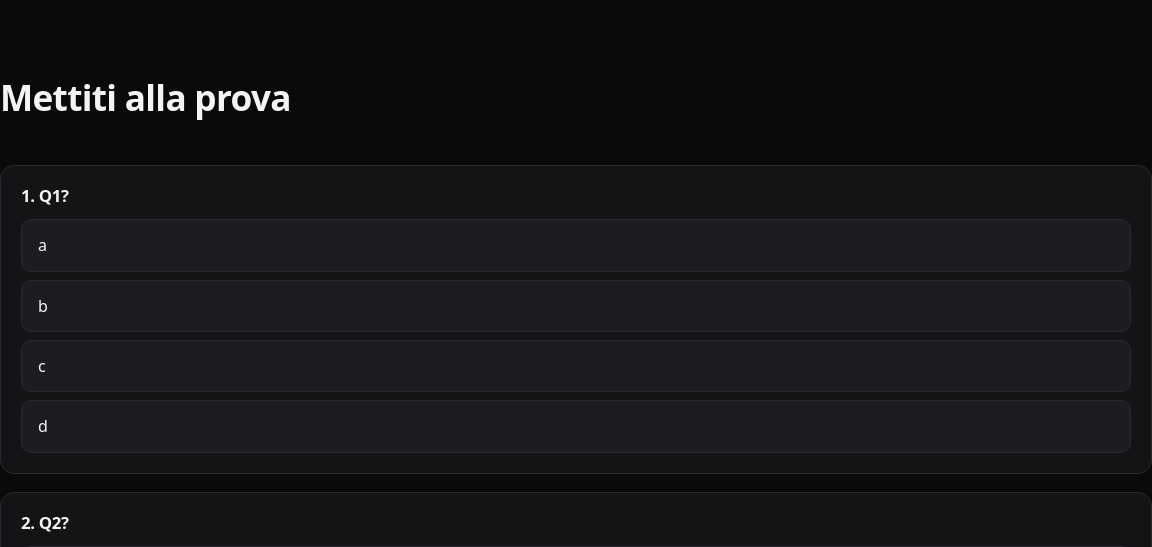
Test: QuizSection › wrong answer shows retry feedback and does not pass the quiz
The width and height of the screenshot is (1152, 547).
What coordinates should you click on to do the following:
click the button "a" below "1. Q1?"
I would click on:
 (42, 245)
Its box is [21, 219, 1131, 272].
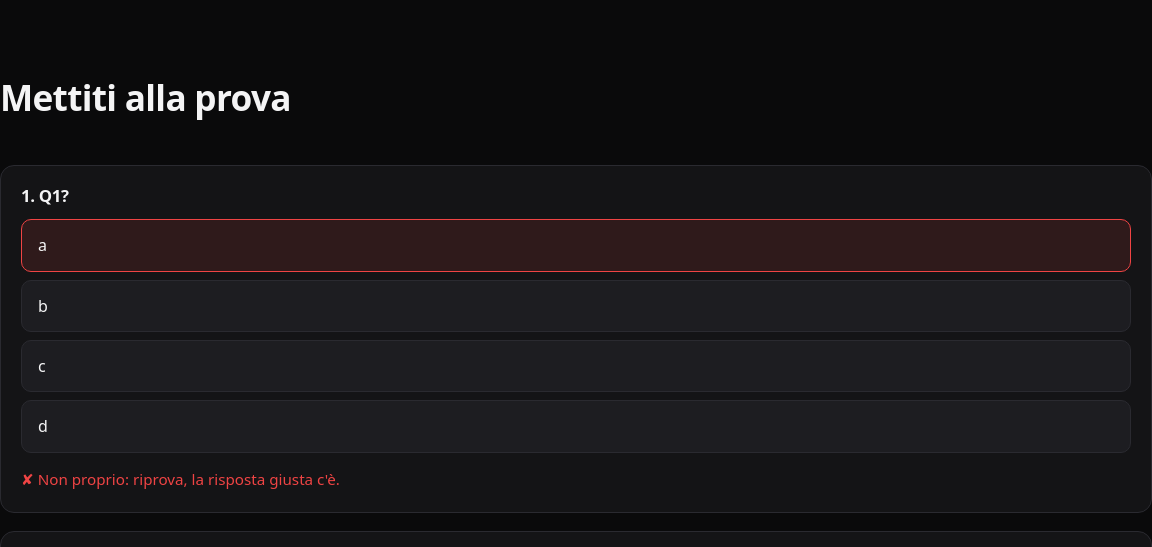
Result: the text "✘ Non proprio: riprova, la risposta giusta c'è." is shown at [21, 469, 340, 489]
